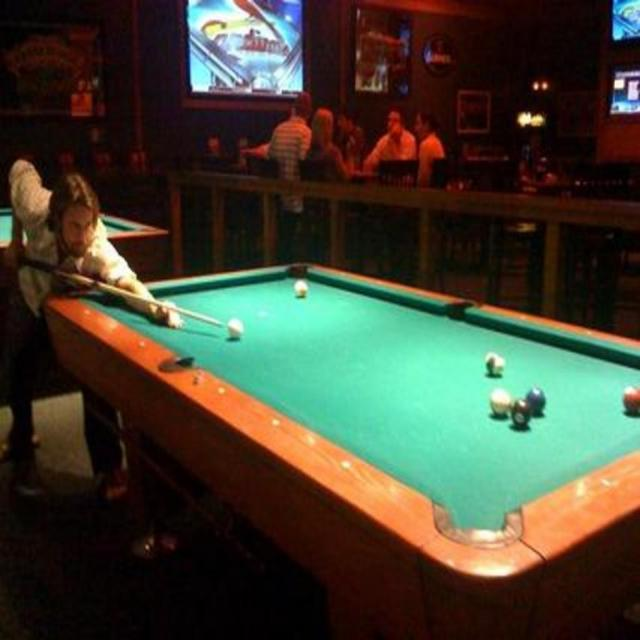Ball: (492, 390, 512, 418), (512, 398, 530, 428), (531, 388, 547, 416), (622, 388, 640, 412), (228, 316, 244, 340), (295, 280, 307, 298)
Billiard table: (44, 260, 640, 640), (0, 206, 169, 378)
